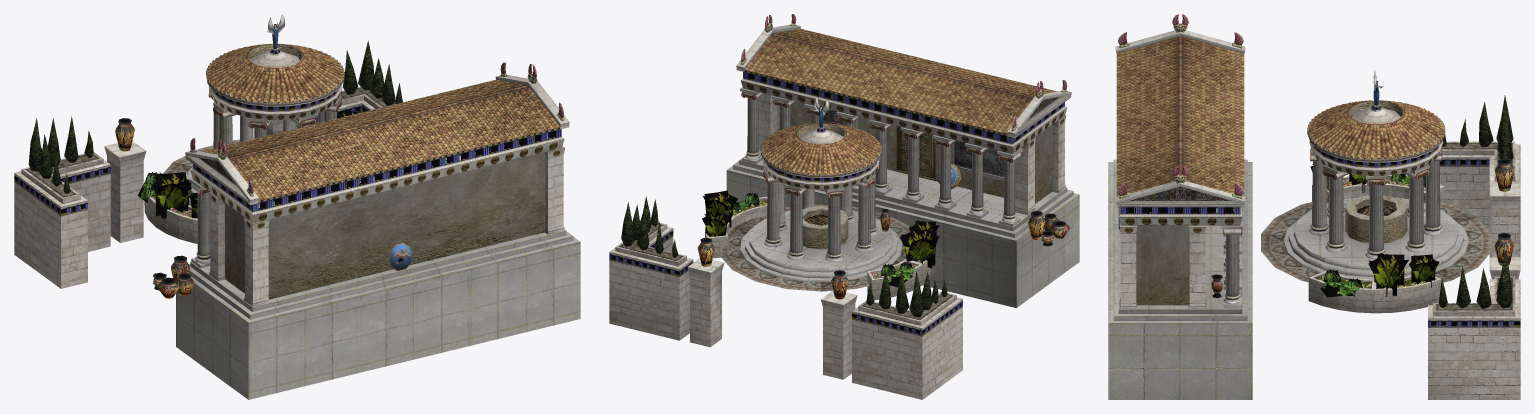
The model's file is athen_town_center.glb.
3 views of the same model, side by side, from view 1: azimuth 30°, elevation 25°; view 2: azimuth 150°, elevation 25°; view 3: azimuth 270°, elevation 25° (orthographic). The views are drawn at different scales.
Visible parts, largest first — view 1: athen_town_center_part0, athen_town_center_part8, athen_town_center_part5, athen_town_center_part4, athen_town_center_part3, athen_town_center_part2, athen_town_center_part6, athen_town_center_part7; view 2: athen_town_center_part0, athen_town_center_part8, athen_town_center_part5, athen_town_center_part2, athen_town_center_part3, athen_town_center_part4, athen_town_center_part6; view 3: athen_town_center_part0, athen_town_center_part8, athen_town_center_part5, athen_town_center_part2, athen_town_center_part3, athen_town_center_part4, athen_town_center_part6.
Part boxes in pixels (box(x1,y1,x2,y2)): athen_town_center_part0: box(14, 43, 569, 306); athen_town_center_part8: box(176, 90, 580, 399); athen_town_center_part5: box(22, 14, 564, 298); athen_town_center_part4: box(28, 40, 402, 193); athen_town_center_part3: box(138, 109, 361, 219); athen_town_center_part2: box(163, 92, 341, 205); athen_town_center_part6: box(207, 45, 344, 106); athen_town_center_part7: box(388, 243, 412, 270); athen_town_center_part0: box(609, 24, 1071, 399); athen_town_center_part8: box(726, 87, 1079, 307); athen_town_center_part5: box(615, 14, 1070, 321); athen_town_center_part2: box(719, 92, 1021, 291); athen_town_center_part3: box(702, 190, 939, 287); athen_town_center_part4: box(621, 196, 947, 317); athen_town_center_part6: box(761, 124, 880, 177); athen_town_center_part0: box(1115, 30, 1520, 399); athen_town_center_part8: box(1108, 148, 1468, 399); athen_town_center_part5: box(1118, 14, 1515, 311); athen_town_center_part2: box(1223, 148, 1491, 282); athen_town_center_part3: box(1310, 164, 1439, 297); athen_town_center_part4: box(1438, 95, 1513, 308); athen_town_center_part6: box(1307, 101, 1445, 162).
Bounding box in the file's own units: 6.2 × 3.95 × 6.01.
8 materials, 8 textured.
